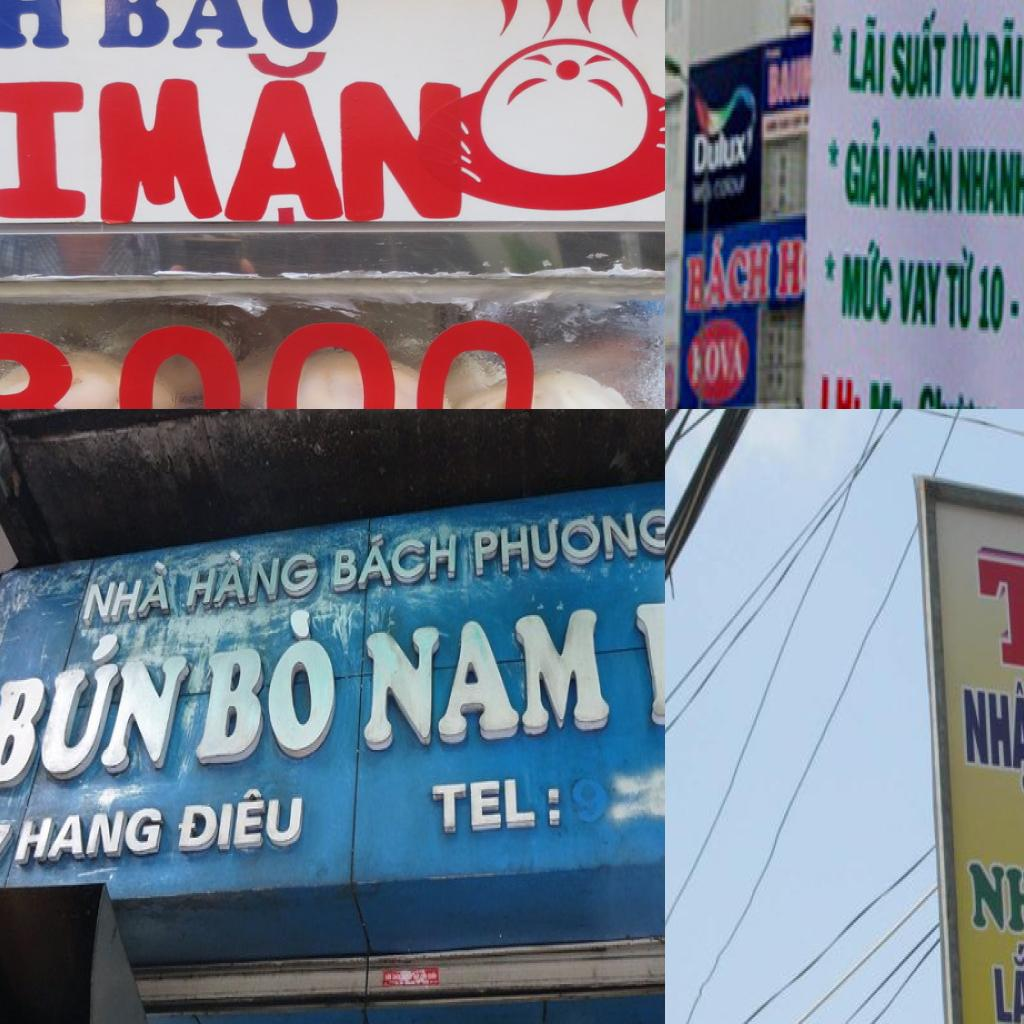text: (94, 48, 464, 230), (0, 317, 543, 409), (357, 597, 620, 755), (0, 624, 199, 795), (184, 604, 342, 771), (468, 491, 665, 582), (0, 47, 90, 225), (956, 515, 1024, 711), (94, 0, 340, 52), (166, 782, 306, 864), (9, 800, 167, 870), (184, 537, 321, 610), (326, 524, 462, 597), (954, 670, 1024, 793), (684, 225, 774, 319), (79, 555, 178, 628), (964, 832, 1024, 943), (953, 140, 1024, 225), (892, 126, 956, 219), (889, 3, 947, 105), (839, 228, 898, 327), (843, 114, 894, 213), (894, 248, 944, 334), (845, 9, 889, 102), (982, 11, 1024, 105), (917, 368, 1007, 409), (985, 938, 1024, 1024), (944, 237, 976, 339), (690, 126, 748, 178), (975, 260, 1008, 342), (952, 17, 982, 105), (766, 49, 804, 111), (704, 333, 746, 389), (816, 362, 865, 409), (775, 237, 805, 304), (866, 368, 913, 409), (0, 813, 20, 870), (826, 23, 845, 58), (826, 126, 842, 166), (822, 242, 837, 284), (1007, 298, 1022, 328)
